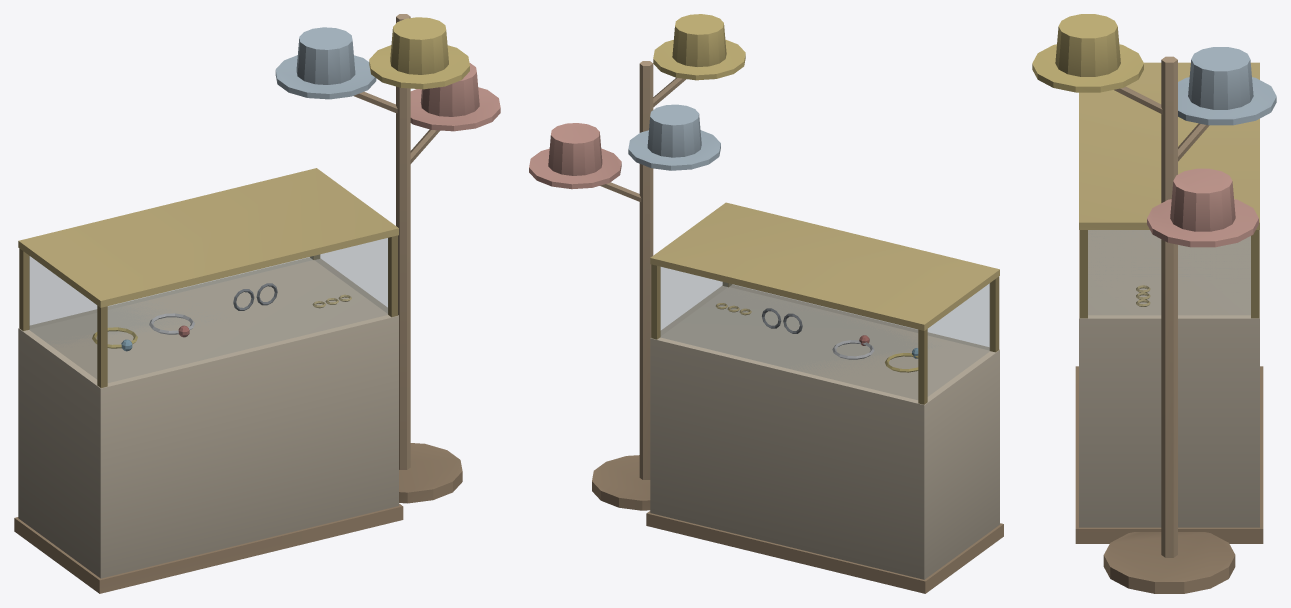
The model's file is wear_acc_case.glb.
3 views of the same model, side by side, from view 1: azimuth 30°, elevation 25°; view 2: azimuth 150°, elevation 25°; view 3: azimuth 270°, elevation 25° (orthographic). The views are drawn at different scales.
Visible parts, largest first — view 1: wear.acc_case; view 2: wear.acc_case; view 3: wear.acc_case.
Part boxes in pixels (x1,y1,x2,y2): wear.acc_case: (14,14,500,593); wear.acc_case: (529,14,1003,593); wear.acc_case: (1032,14,1276,593).
Bounding box in the file's own units: 1.74 × 1.78 × 0.743.
